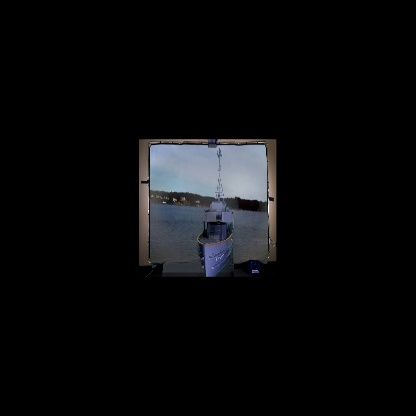YP689: (196, 148, 235, 276)
